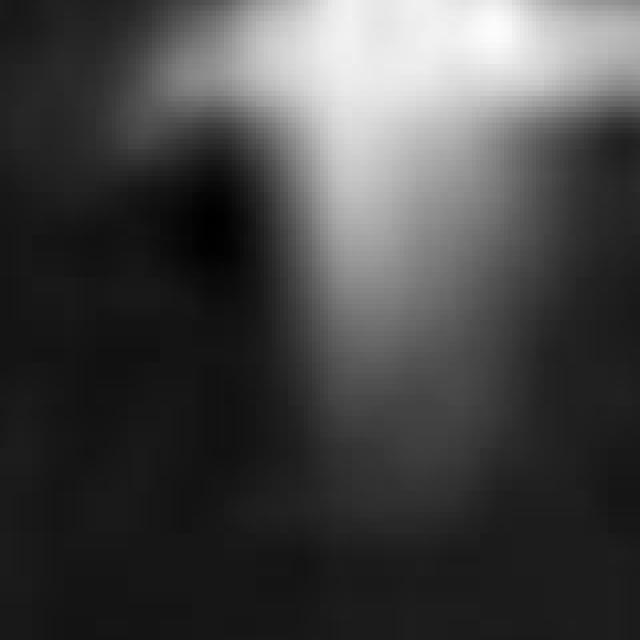person: (261, 1, 553, 438)
